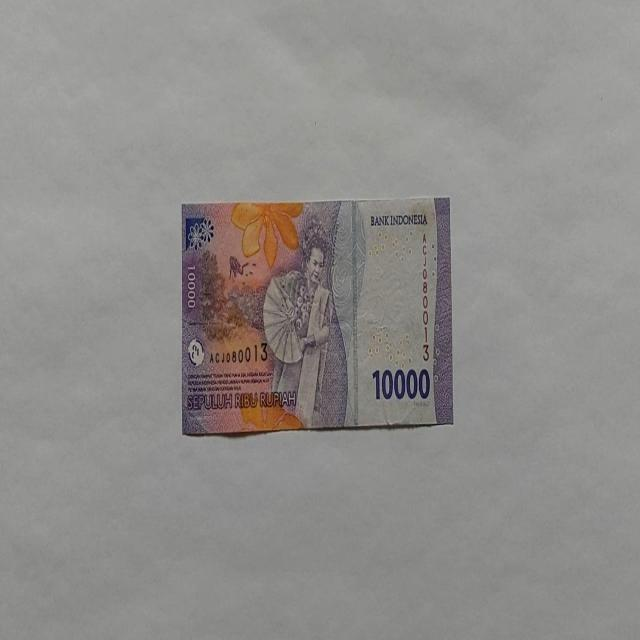Kertas: (180, 196, 454, 437), (371, 365, 431, 402)
